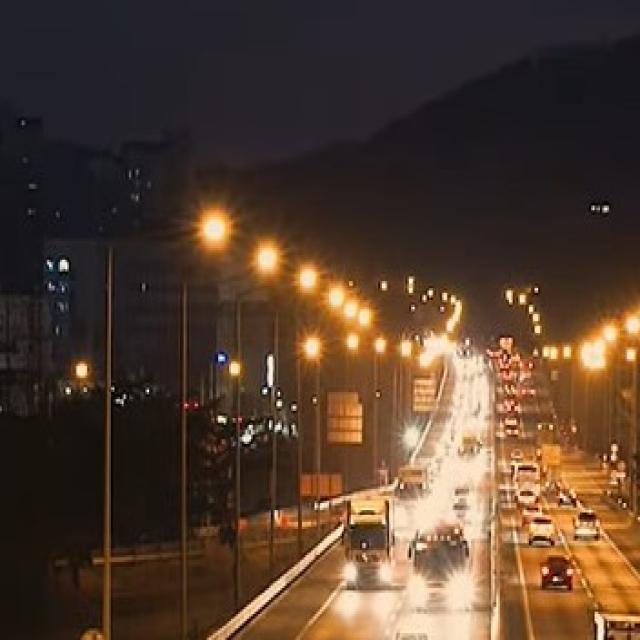bus: (407, 523, 467, 613)
car: (540, 555, 574, 591), (572, 511, 601, 541), (375, 628, 438, 640), (527, 516, 554, 544)
van: (342, 492, 398, 588), (582, 611, 640, 640)
